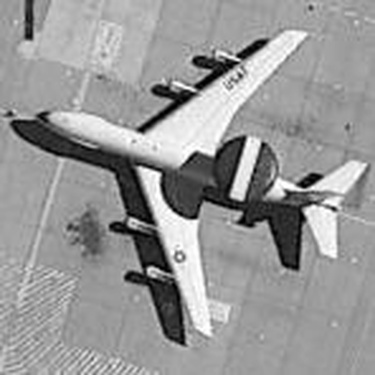airplane: (11, 15, 374, 350)
